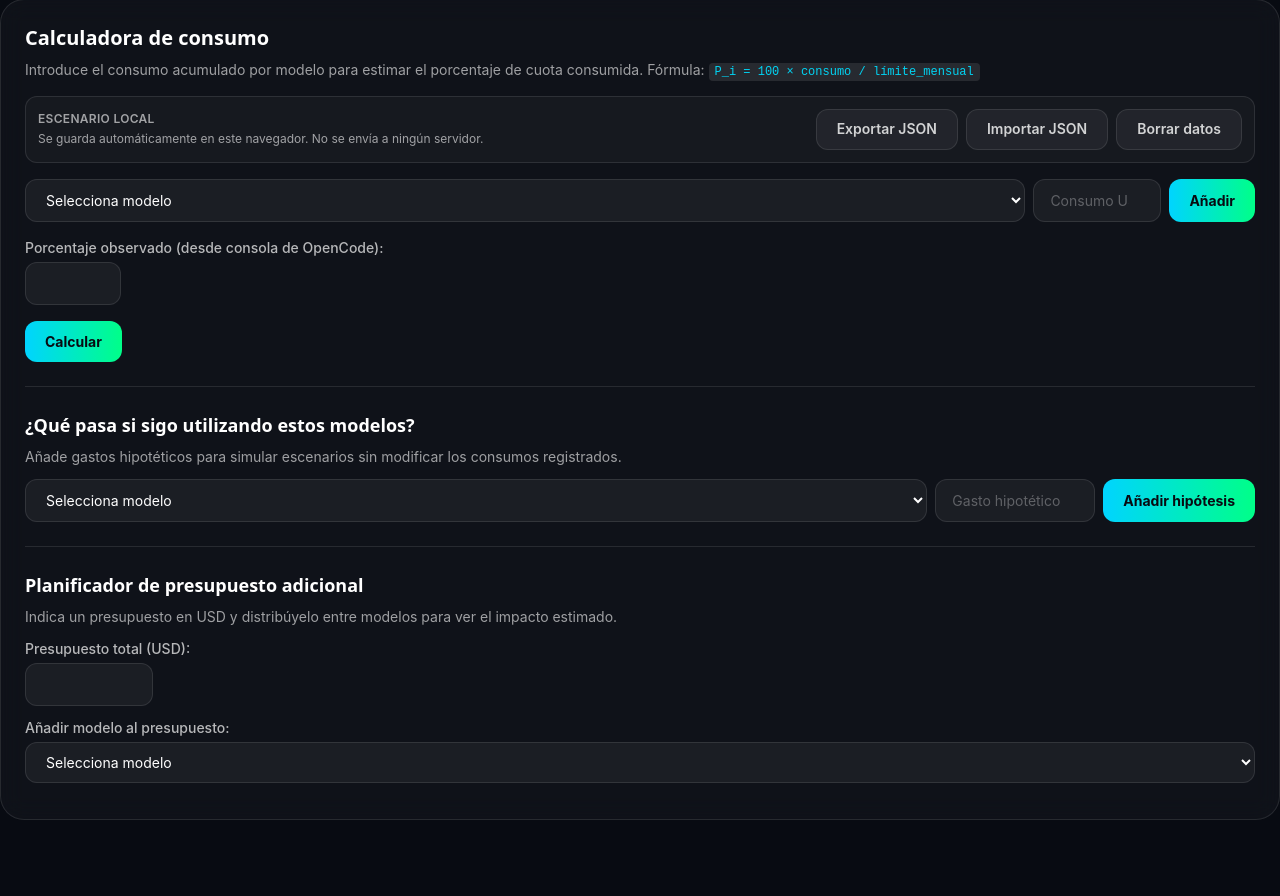
Scenario: Calculator UI › warns when allocations exceed the total budget without rewriting them
Expected: the heading "Calculadora de consumo" is shown, x1=25 y1=24 x2=269 y2=51
In the number field named "Presupuesto total en USD": (89, 684) x1=25 y1=663 x2=153 y2=706, type "10"
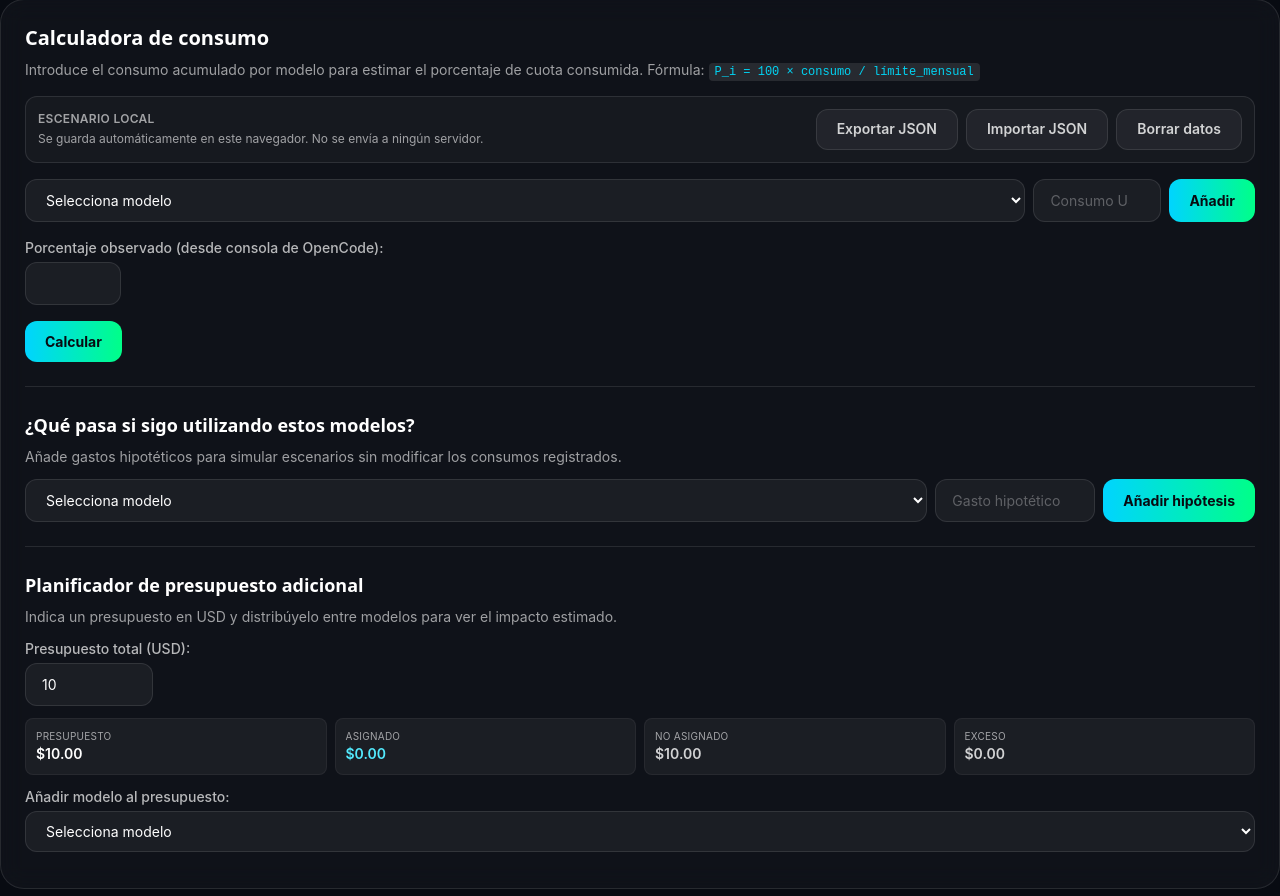
Select "Kimi K3 ($15)" in the dropdown named "Añadir modelo al presupuesto": (640, 831) x1=25 y1=811 x2=1255 y2=852
(page scrolled)
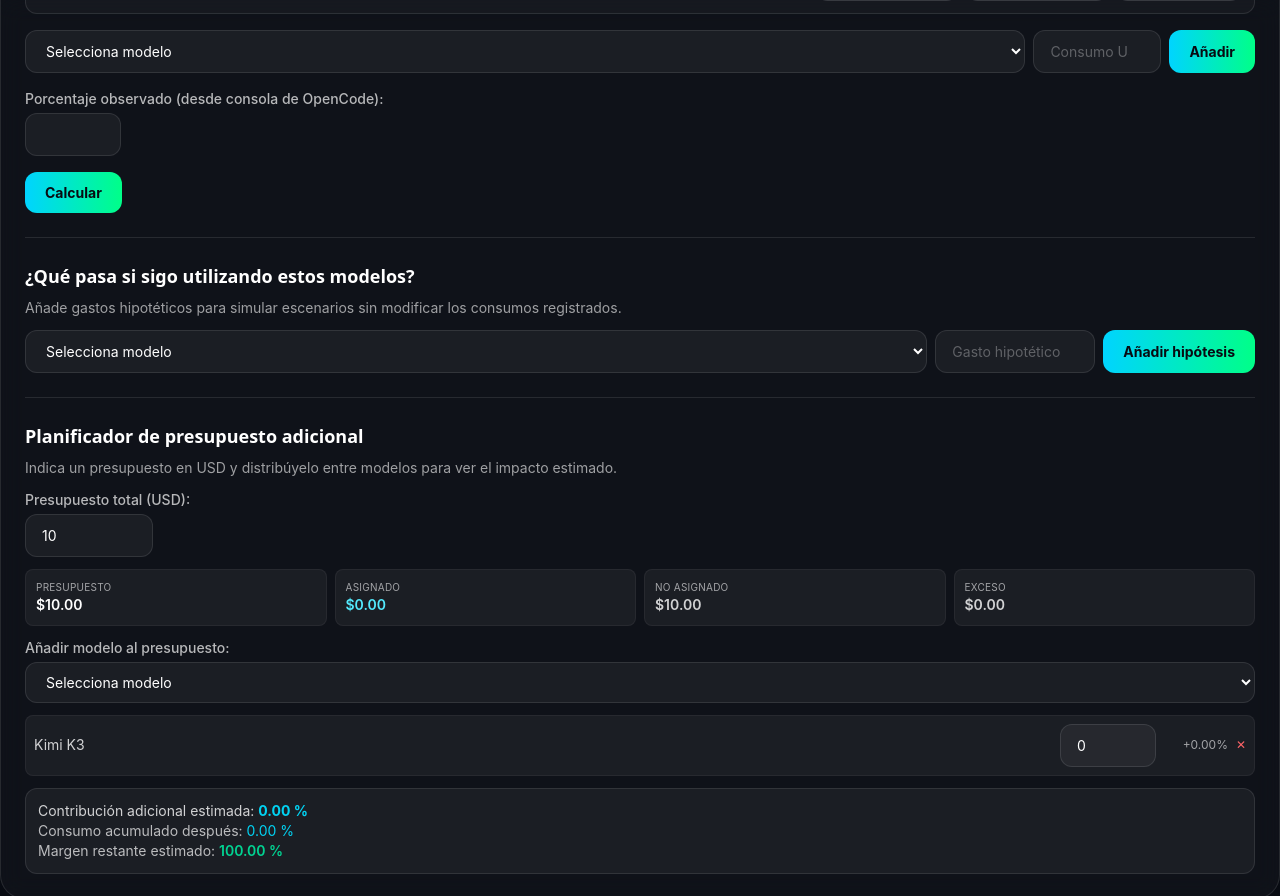
Replace the text in the number field named "Cantidad para" with "15": (1108, 745) x1=1060 y1=724 x2=1156 y2=767
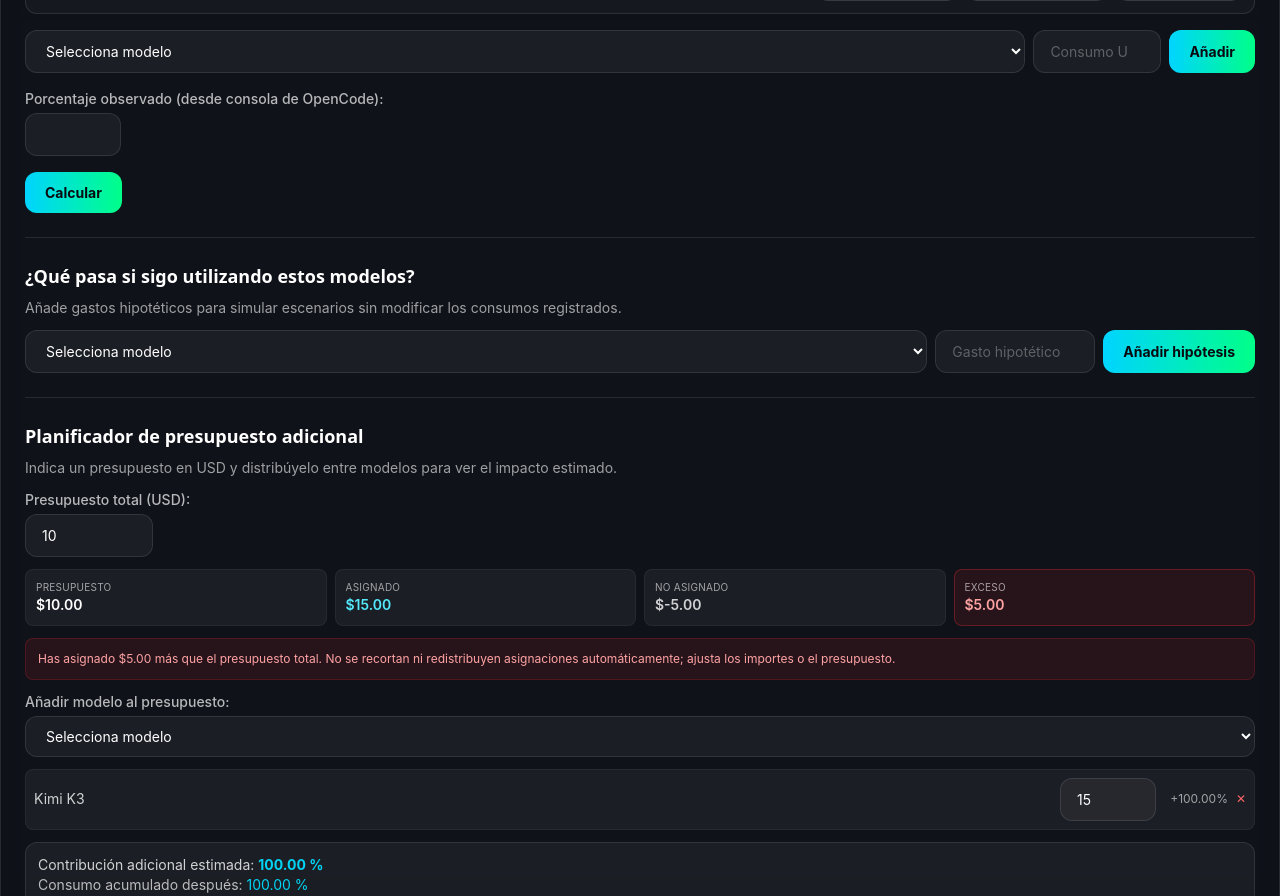
Expected: the text "Has asignado $5.00 más" is shown, x1=25 y1=638 x2=1255 y2=680
